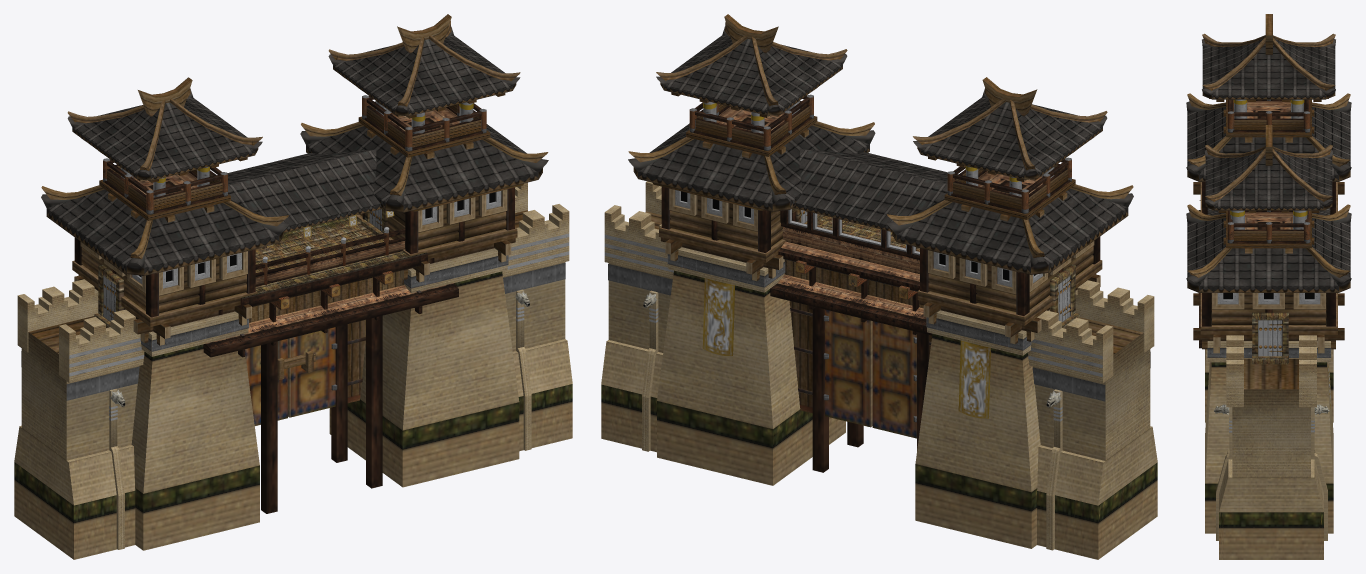
File: s_han_wall_gate_wall_gate.glb
3 views of the same model, side by side, from view 1: azimuth 30°, elevation 25°; view 2: azimuth 150°, elevation 25°; view 3: azimuth 270°, elevation 25° (orthographic). The views are drawn at different scales.
Parts seen in each view (by area): view 1: s_han_wall_gate_wall_gate_part2, s_han_wall_gate_wall_gate_part0; view 2: s_han_wall_gate_wall_gate_part2, s_han_wall_gate_wall_gate_part0; view 3: s_han_wall_gate_wall_gate_part2, s_han_wall_gate_wall_gate_part1.
Boxes of the visible parts, x1,y1,x2,y2 form: s_han_wall_gate_wall_gate_part2: [14, 14, 572, 559]; s_han_wall_gate_wall_gate_part0: [245, 327, 335, 425]; s_han_wall_gate_wall_gate_part2: [601, 14, 1157, 559]; s_han_wall_gate_wall_gate_part0: [825, 309, 916, 438]; s_han_wall_gate_wall_gate_part2: [1186, 14, 1351, 559]; s_han_wall_gate_wall_gate_part1: [1214, 404, 1329, 414].
Size of the model in its own units: 9.18 by 7.45 by 3.
2 materials, 2 textured.
